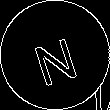N_N: (28, 25, 82, 85)
